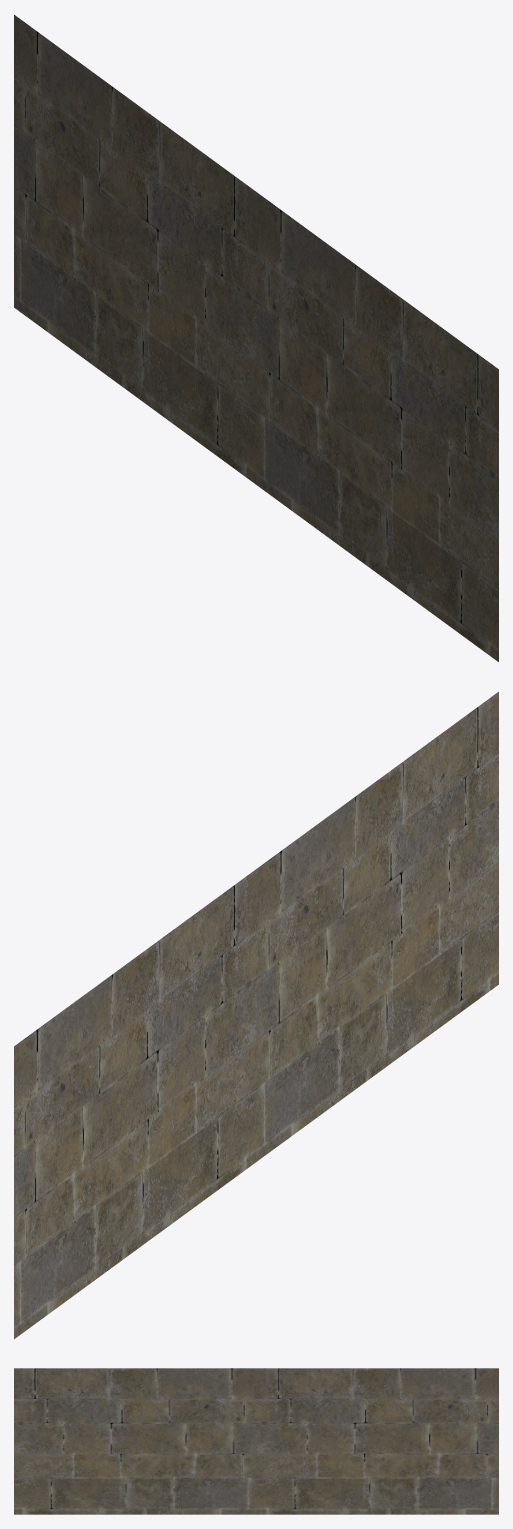
Rendered from cellar_2m.fbx.
3 renders of one model, top to bottom at view 1: azimuth 30°, elevation 25°; view 2: azimuth 150°, elevation 25°; view 3: azimuth 270°, elevation 25°, orthographic. The views are drawn at different scales.
Parts seen in each view (by area): view 1: cellar_arch1; view 2: cellar_arch1; view 3: cellar_arch1.
Part boxes in pixels (box(x1,y1,x2,y2)): cellar_arch1: box(14, 15, 498, 661); cellar_arch1: box(14, 692, 498, 1338); cellar_arch1: box(14, 1368, 498, 1514).
Bounding box in the file's own units: 1.06e-05 × 200 × 600.
Materials: 1 (1 with a texture image).
